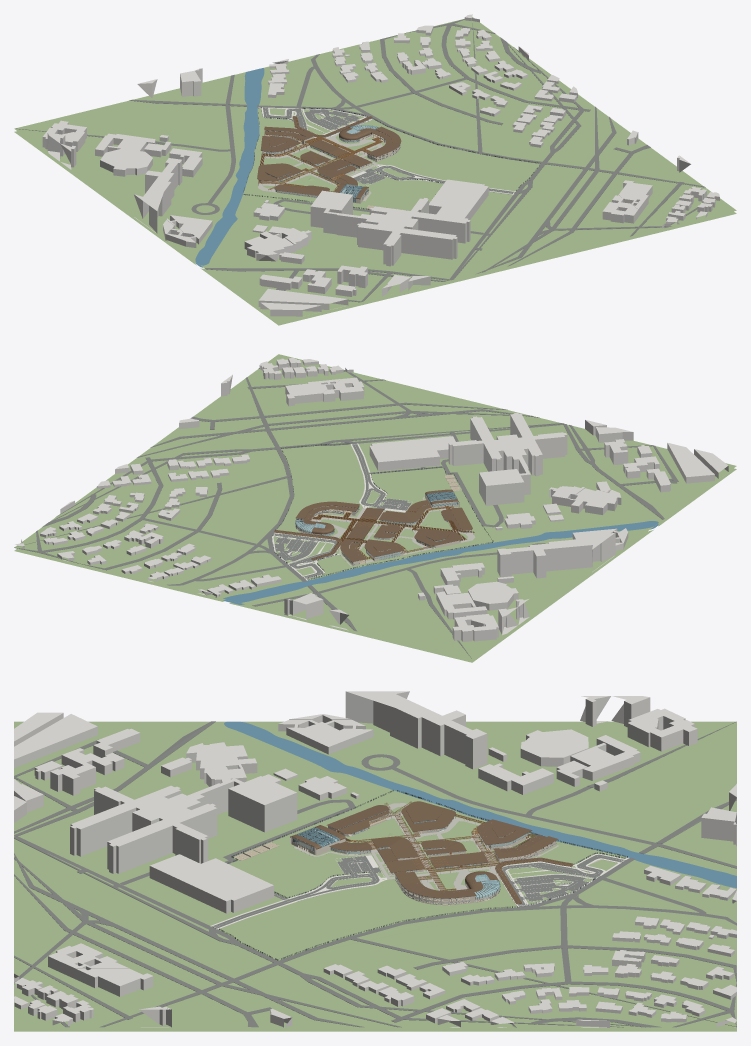
File: net-zero-school.glb
3 views of the same model, one above another, from view 1: azimuth 30°, elevation 25°; view 2: azimuth 150°, elevation 25°; view 3: azimuth 270°, elevation 25° (orthographic). The views are drawn at different scales.
Visible parts, largest first — view 1: ground:NZS field, context:NZS context, ground:NZS road, project:NZS roof, water, project:NZS timber, ground:NZS paving, ground:NZS line, project:NZS wall, project:NZS metal, project:NZS glass; view 2: ground:NZS field, context:NZS context, ground:NZS road, project:NZS roof, water, project:NZS timber, ground:NZS line, ground:NZS paving, project:NZS wall, project:NZS floor, project:NZS metal, project:NZS glass; view 3: ground:NZS field, context:NZS context, ground:NZS road, project:NZS roof, water, ground:NZS paving, ground:NZS line, project:NZS wall, project:NZS timber, project:NZS metal, project:NZS floor, project:NZS glass (+1 smaller).
Boxes of the visible parts, <box> form: ground:NZS field: <box>14,17,736,325</box>; context:NZS context: <box>42,14,719,316</box>; ground:NZS road: <box>16,19,705,302</box>; project:NZS roof: <box>257,116,401,199</box>; water: <box>195,68,264,267</box>; project:NZS timber: <box>258,116,383,191</box>; ground:NZS paving: <box>258,108,513,201</box>; ground:NZS line: <box>258,106,515,208</box>; project:NZS wall: <box>259,126,400,208</box>; project:NZS metal: <box>243,107,540,209</box>; project:NZS glass: <box>262,130,393,202</box>; ground:NZS field: <box>14,354,736,662</box>; context:NZS context: <box>15,358,728,641</box>; ground:NZS road: <box>14,368,678,658</box>; project:NZS roof: <box>273,489,472,562</box>; water: <box>223,521,658,604</box>; project:NZS timber: <box>275,505,474,560</box>; ground:NZS line: <box>272,443,460,580</box>; ground:NZS paving: <box>273,443,475,579</box>; project:NZS wall: <box>295,477,471,565</box>; project:NZS floor: <box>296,474,471,564</box>; project:NZS metal: <box>272,443,493,580</box>; project:NZS glass: <box>297,491,471,564</box>; ground:NZS field: <box>14,721,736,1031</box>; context:NZS context: <box>14,691,736,1027</box>; ground:NZS road: <box>14,721,736,1027</box>; project:NZS roof: <box>290,801,573,903</box>; water: <box>224,721,736,888</box>; ground:NZS paving: <box>210,803,619,929</box>; ground:NZS line: <box>211,845,628,929</box>; project:NZS wall: <box>242,810,556,905</box>; project:NZS timber: <box>332,801,570,904</box>; project:NZS metal: <box>219,790,627,960</box>; project:NZS floor: <box>234,814,555,904</box>; project:NZS glass: <box>293,810,555,902</box>.
Size of the model in its own units: 680 by 36.08 by 680.
